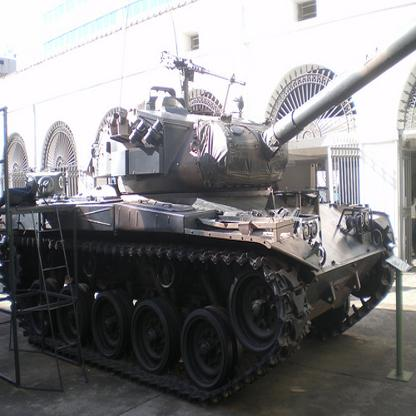Tank: (1, 25, 416, 408)
